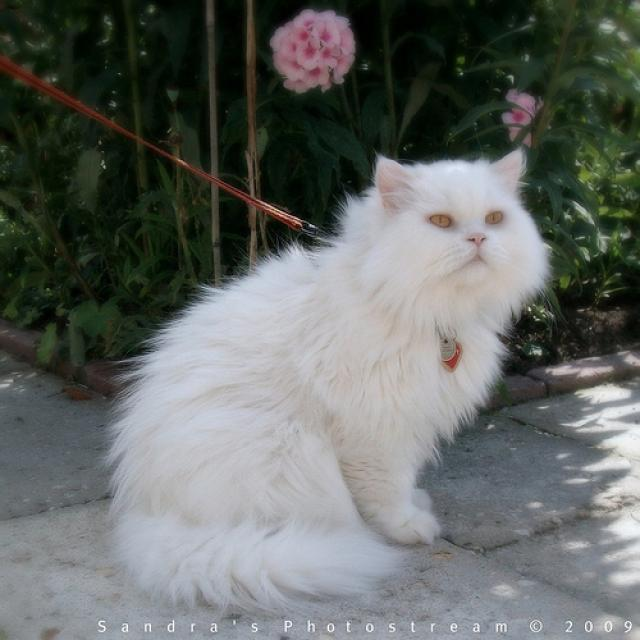Persian: (374, 147, 521, 283)
